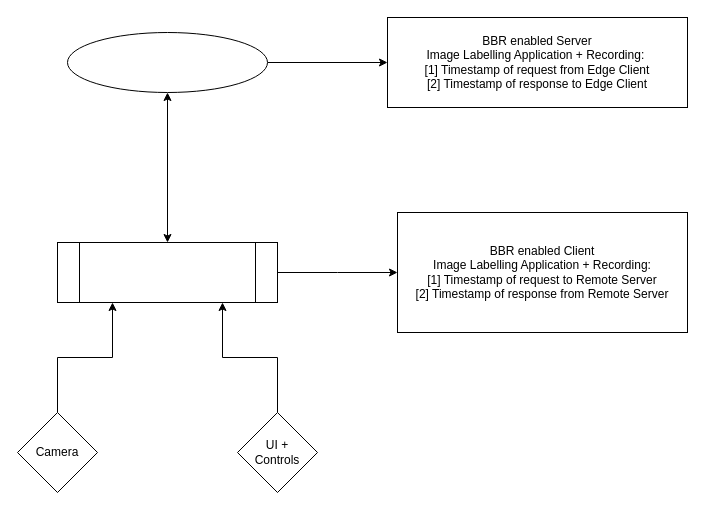
Image size: 705x510. Some labels were removed from this diagram. The centre of each missing label's shape, as x and y in pixels:
"Edge Client" belongs at (167,272).
"Remote Cloud Server" belongs at (167,62).
